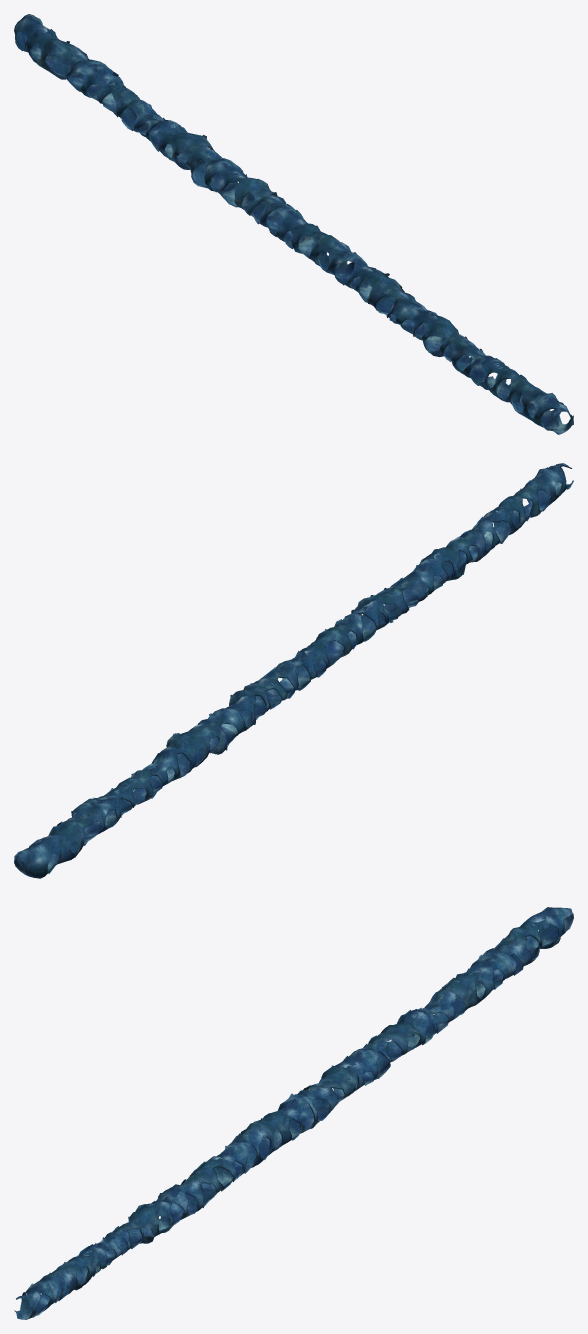
File: stage7.fbx
3 renders of one model, top to bottom at view 1: azimuth 30°, elevation 25°; view 2: azimuth 150°, elevation 25°; view 3: azimuth 330°, elevation 25°, orthographic.
Parts seen in each view (by area): view 1: stage7; view 2: stage7; view 3: stage7.
Part boxes in pixels (<box>): stage7: <box>14,14,573,434</box>; stage7: <box>14,463,573,878</box>; stage7: <box>14,907,573,1319</box>.
Size of the model in its own units: 122 by 112 by 2893.
